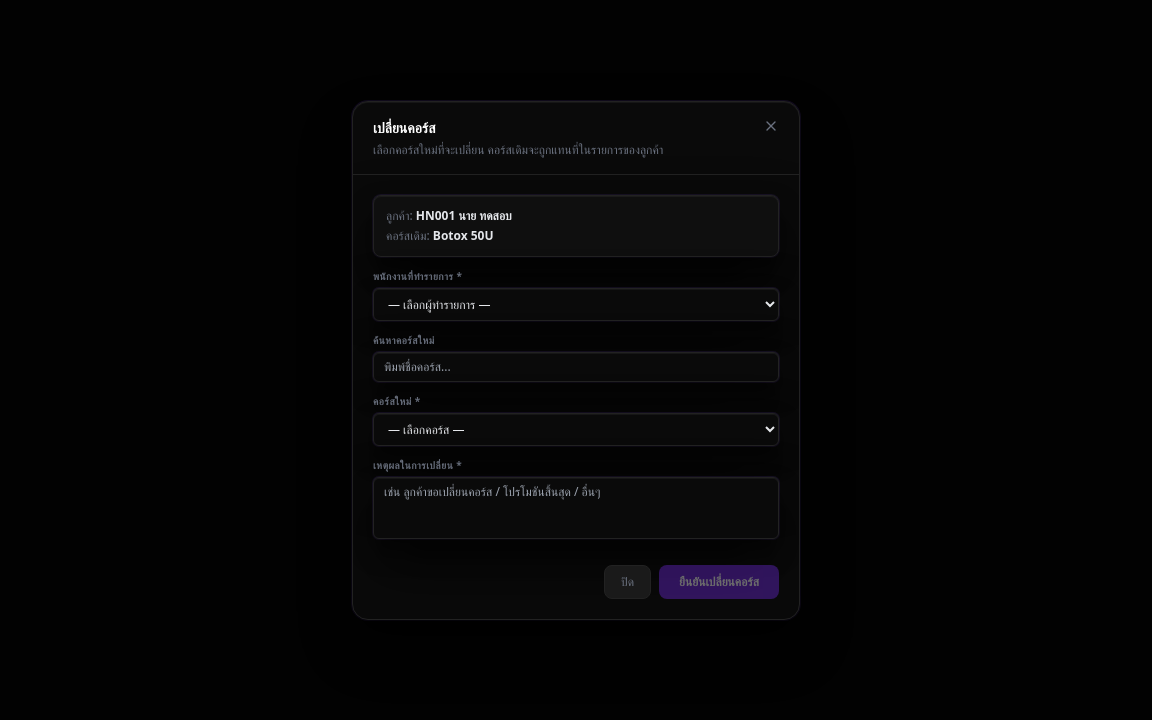
it: M3 ExchangeCourseModal › M3.3 Phase 16.5-ter — submit disabled until course picked AND staff picked AND reason filled
Expected: the button with test id "exchange-course-submit" is disabled, [659,564,779,598]
Select "Premium Botox" in the dropdown with test id "exchange-course-picker" at (576, 429), box [373,412,779,446]
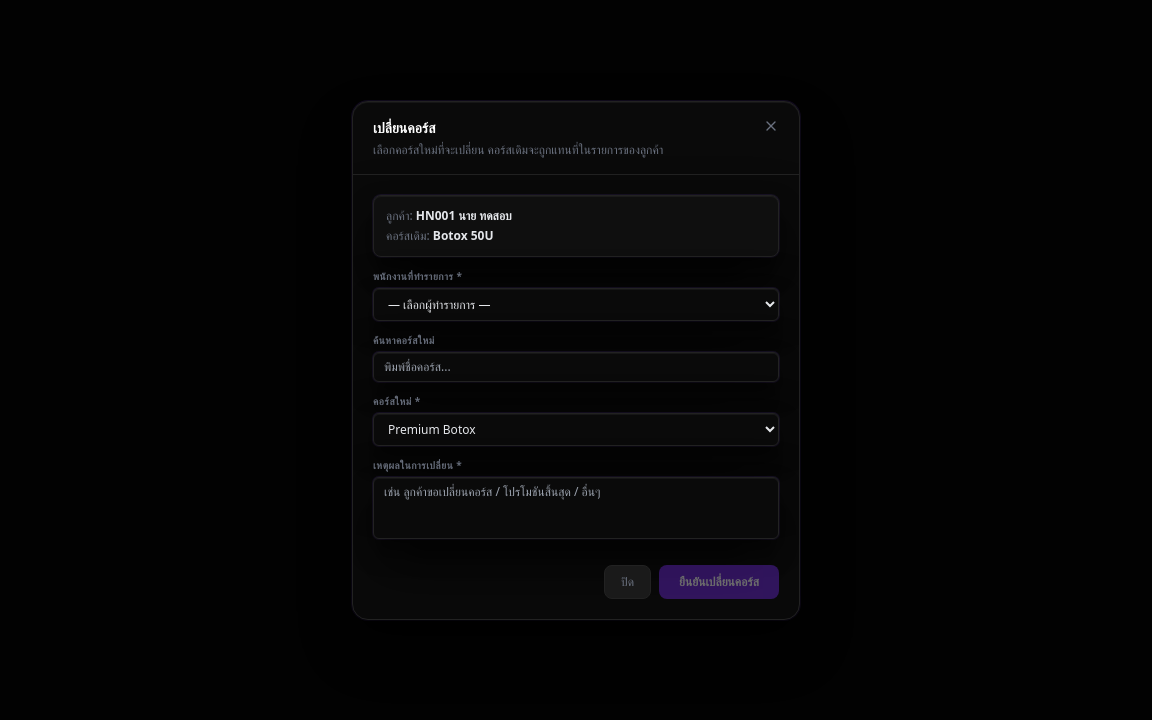
Expected: the button with test id "exchange-course-submit" is disabled, [659,564,779,598]
Type "r" into the text box with test id "exchange-course-reason" at (576, 508), box [373,476,779,538]
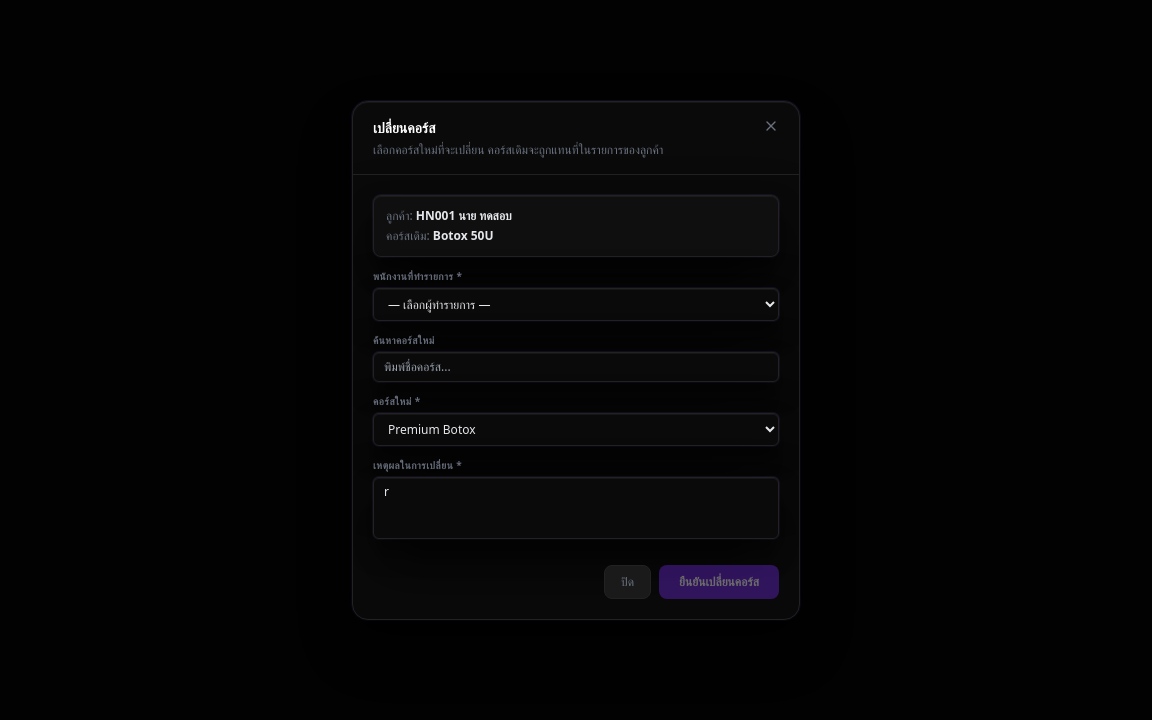
Expected: the button with test id "exchange-course-submit" is disabled, [659,564,779,598]
Select "นาง สมหญิง ใจดี" in the dropdown with test id "exchange-course-staff" at (576, 304), box [373,288,779,320]
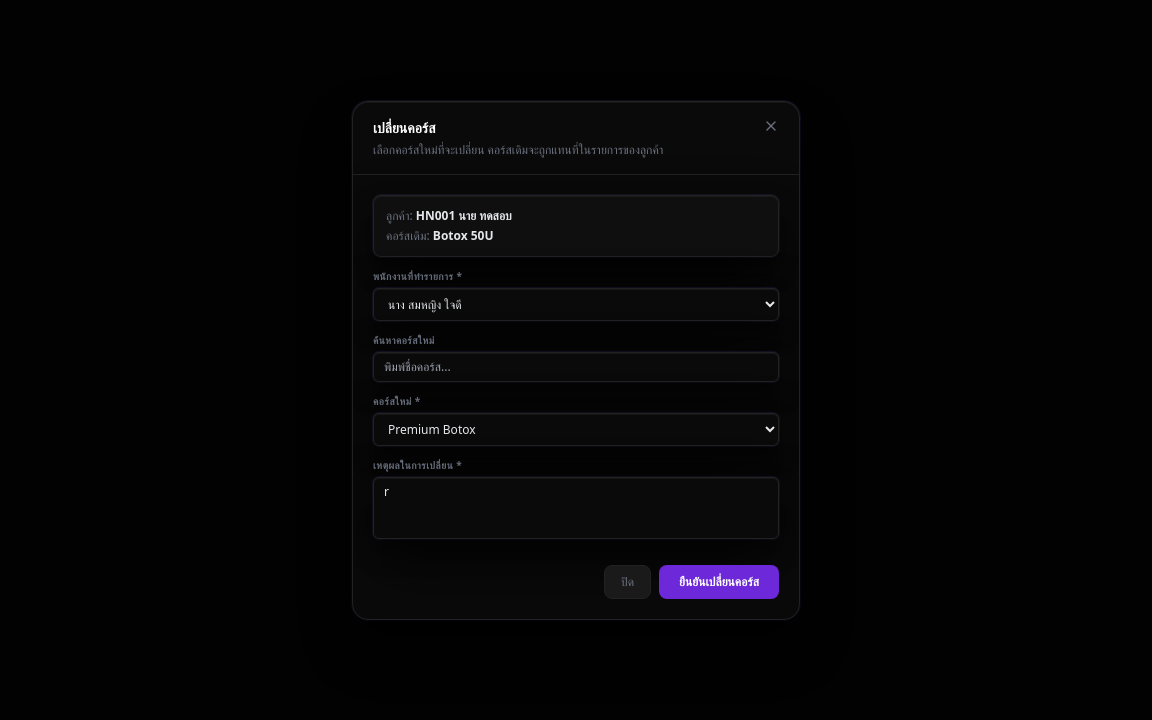
Expected: the button with test id "exchange-course-submit" is enabled, [659,564,779,598]
